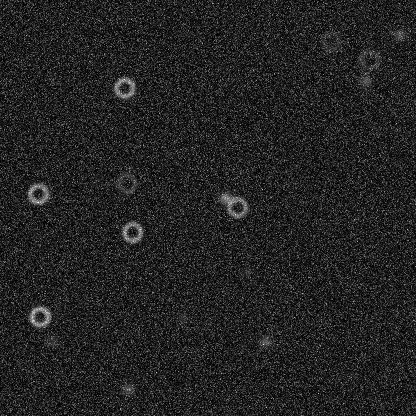Ring: (225, 195, 249, 219), (27, 304, 51, 328), (26, 181, 50, 205), (120, 220, 144, 244), (114, 171, 138, 195), (357, 47, 381, 71), (319, 29, 343, 53), (112, 75, 136, 99)
Spot: (357, 72, 373, 88), (120, 381, 136, 397), (238, 263, 254, 279), (391, 26, 407, 42), (44, 332, 60, 348), (174, 309, 190, 325), (257, 333, 273, 349), (217, 190, 233, 206)
